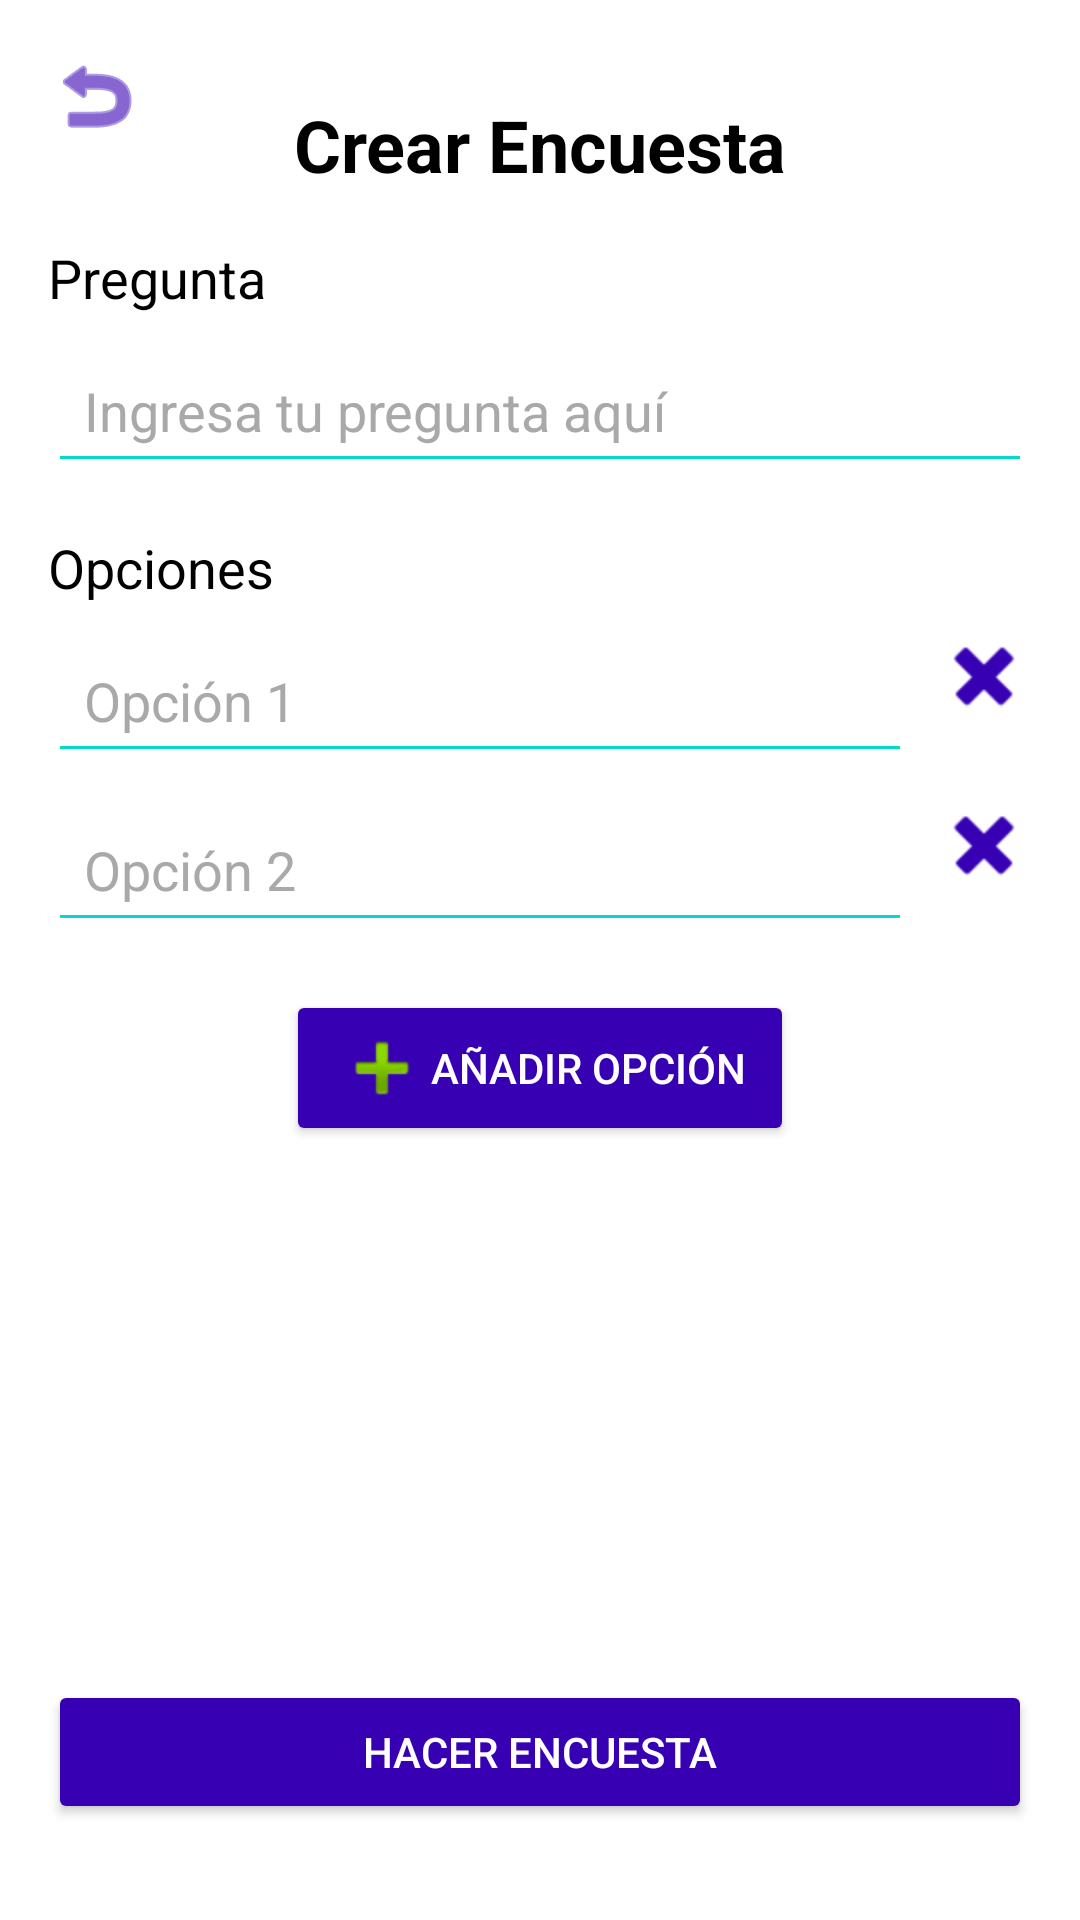

Icons on this 1080 × 1920 Android screen, each with the point to tap as (x=x, y=y):
Botón para regresar: (x=97, y=96)
